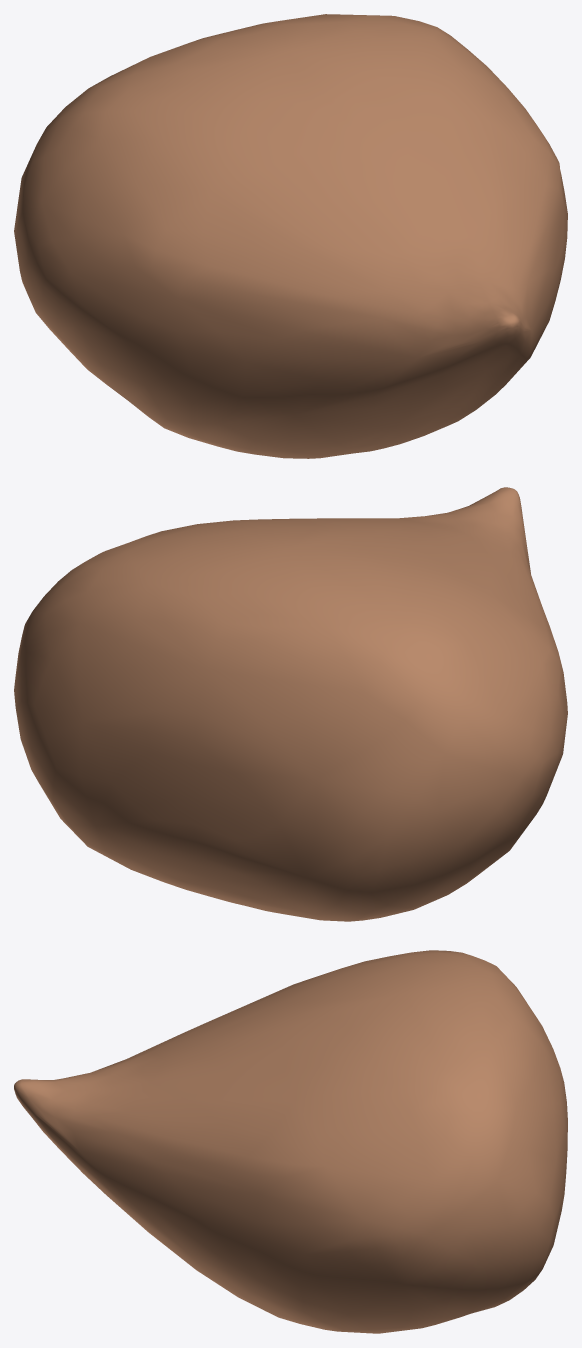
The model's file is bladder.glb.
3 views of the same model, one above another, from view 1: azimuth 30°, elevation 25°; view 2: azimuth 150°, elevation 25°; view 3: azimuth 270°, elevation 25° (orthographic). The views are drawn at different scales.
Visible parts, largest first — view 1: bladder; view 2: bladder; view 3: bladder.
Boxes of the visible parts, <box> form: bladder: <box>14,14,567,458</box>; bladder: <box>14,487,567,921</box>; bladder: <box>14,950,567,1333</box>.
Bounding box in the file's own units: 0.0745 × 0.0513 × 0.0833.
